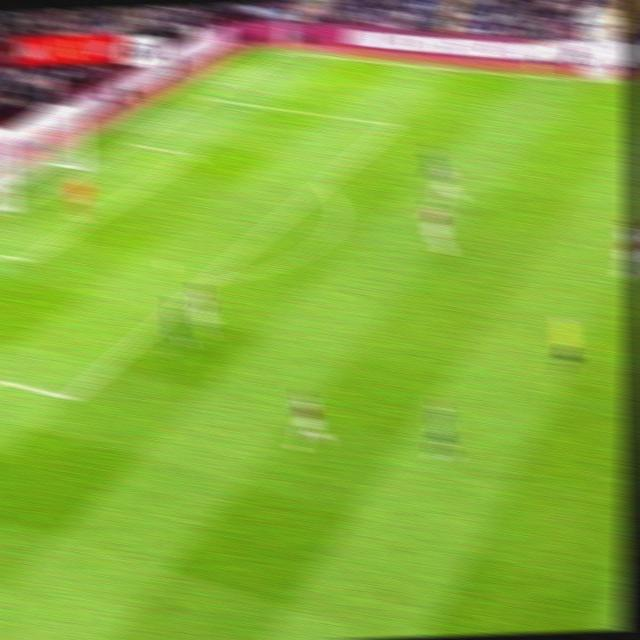bigarea_bottom_inner: (55, 382, 82, 410)
bigarea_top_inner: (380, 112, 404, 134)
bigarea_top_outter: (193, 88, 216, 105)
bottom_arc_area_intersection: (197, 268, 222, 290)
corner: (271, 42, 298, 58)
smallarea_bottom_inner: (12, 245, 39, 271)
smallarea_top_inner: (178, 145, 201, 162)
smallarea_top_outter: (115, 132, 140, 152)
top_arc_area_intersection: (308, 173, 331, 193)
